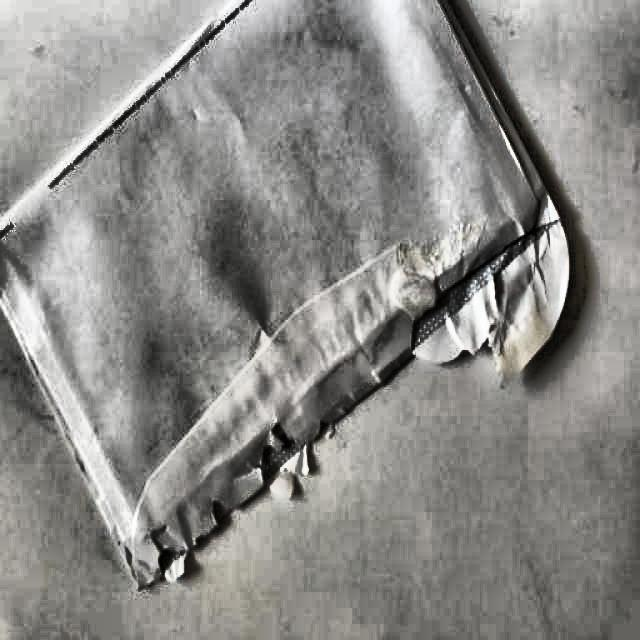Paper: (0, 0, 569, 588)
